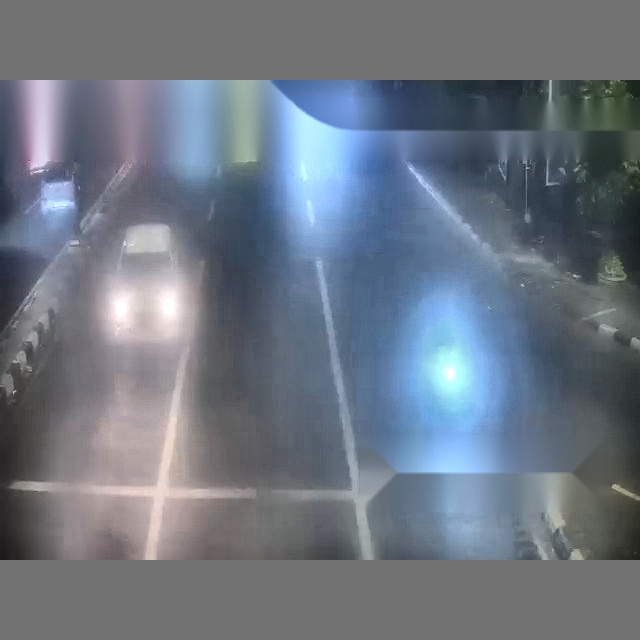Bis: (108, 92, 633, 572)
